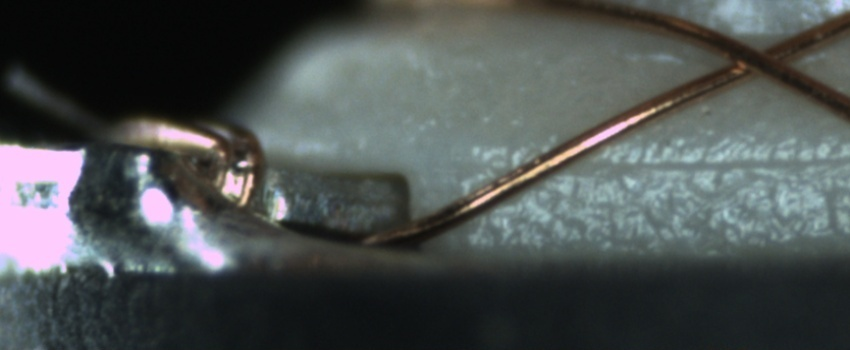CL: (709, 30, 808, 85)
DL: (432, 131, 849, 198)
TE: (110, 106, 271, 218)
